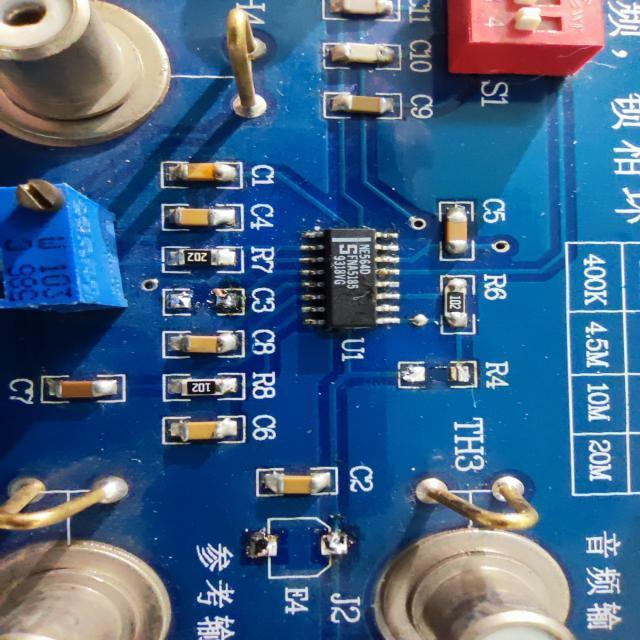Missing component: (260, 512, 344, 615), (153, 282, 277, 320), (396, 360, 518, 392)
